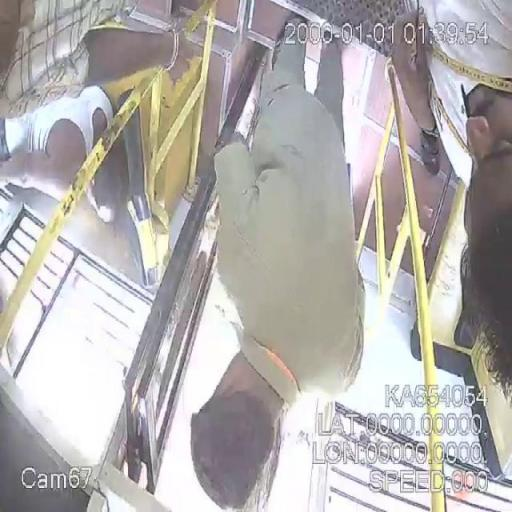persona: (188, 19, 366, 510), (385, 1, 512, 478)
